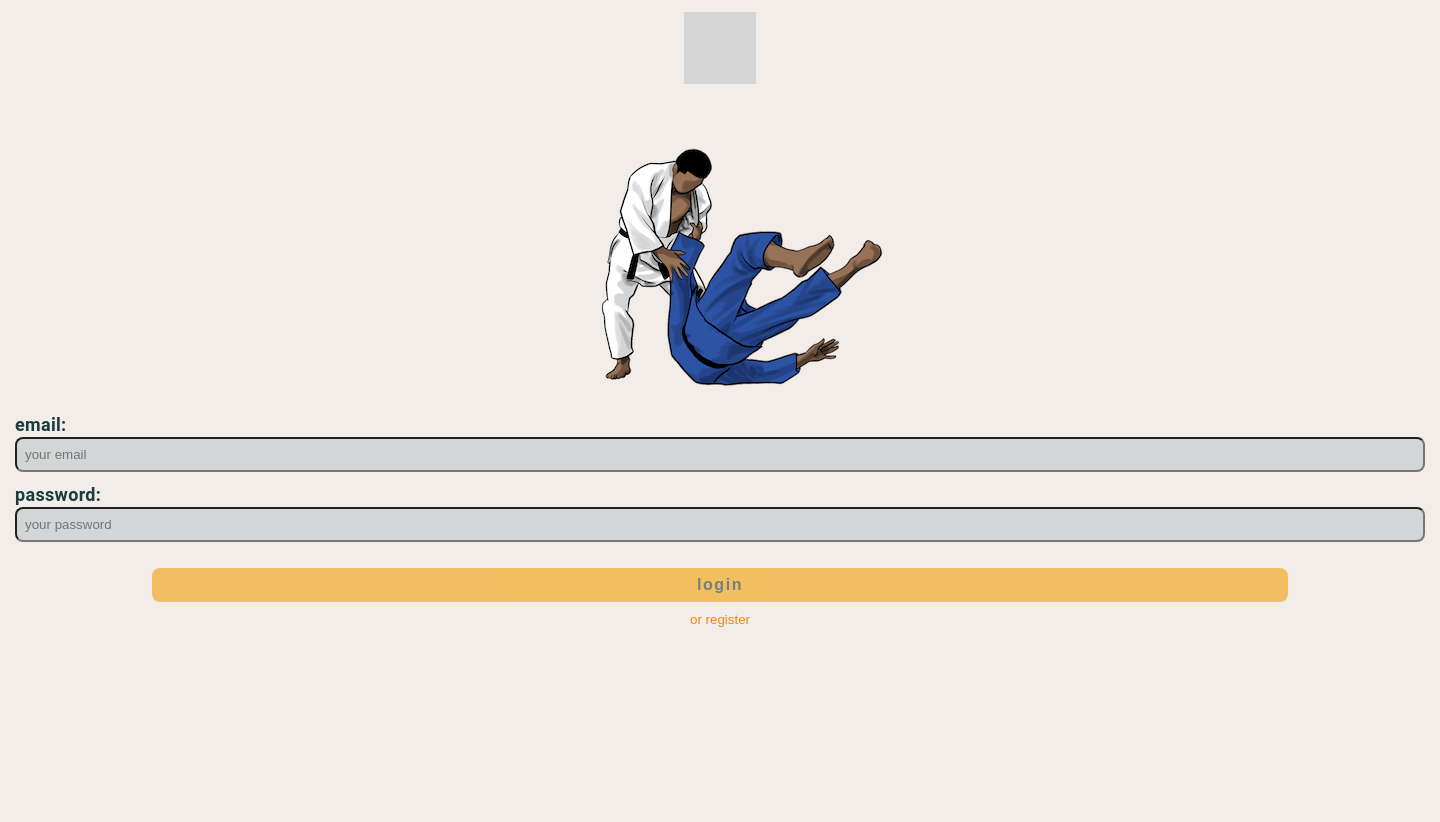
HomePage › renders a log in Form or a Profile Form
expect the form named "login form" is shown: met, box x1=0 y1=402 x2=1439 y2=612
Click the button "or register" at (720, 620), box x1=690 y1=612 x2=750 y2=627
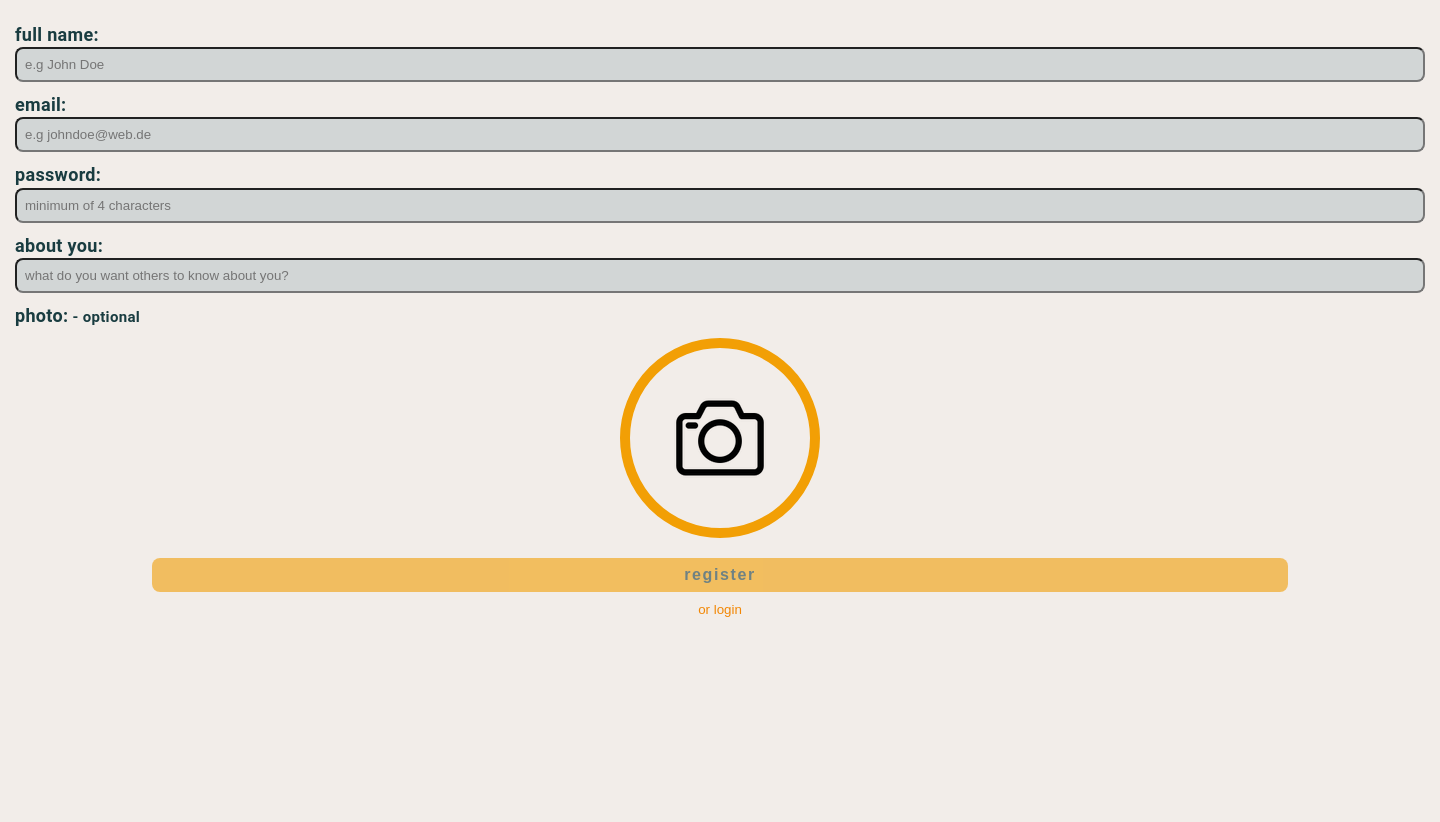
expect the form named "registration form" is shown: met
